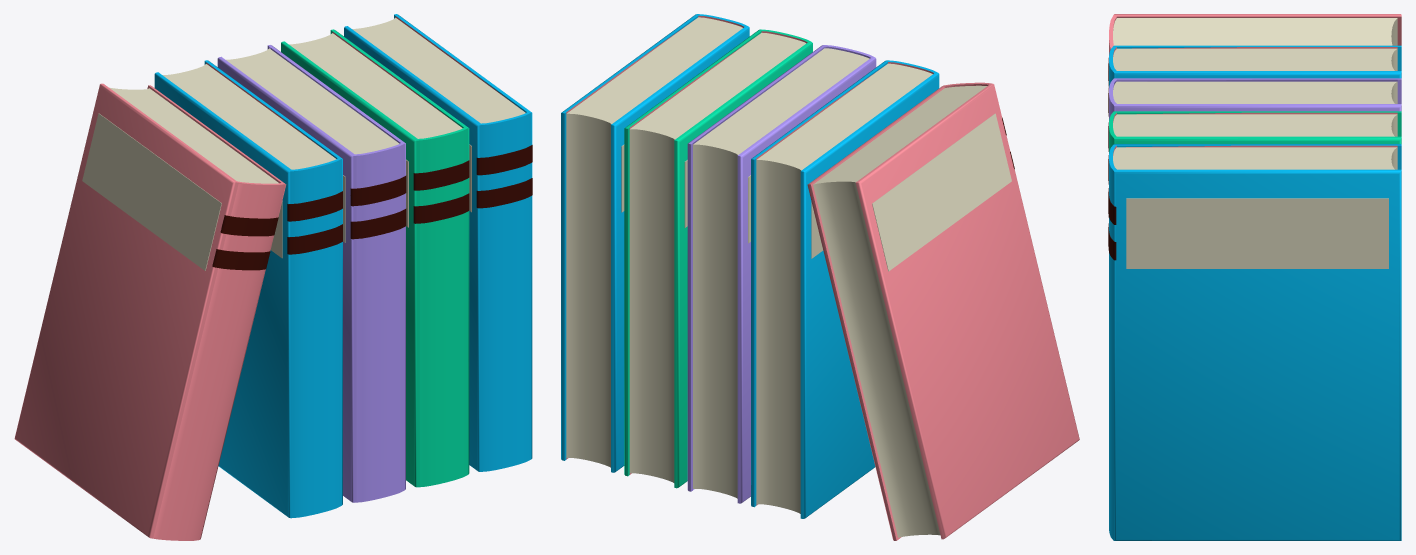
Rendered from BookStock.fbx.
The picture shows the model from 3 angles, left to right: view 1: azimuth 30°, elevation 25°; view 2: azimuth 150°, elevation 25°; view 3: azimuth 270°, elevation 25°; orthographic projection. The views are drawn at different scales.
Visible parts, largest first — view 1: Book.Stock; view 2: Book.Stock; view 3: Book.Stock.
Boxes of the visible parts, <box> form: Book.Stock: <box>14,14,532,540</box>; Book.Stock: <box>561,14,1079,540</box>; Book.Stock: <box>1108,14,1401,540</box>.
Bounding box in the file's own units: 0.2927 × 0.2538 × 0.1809.
